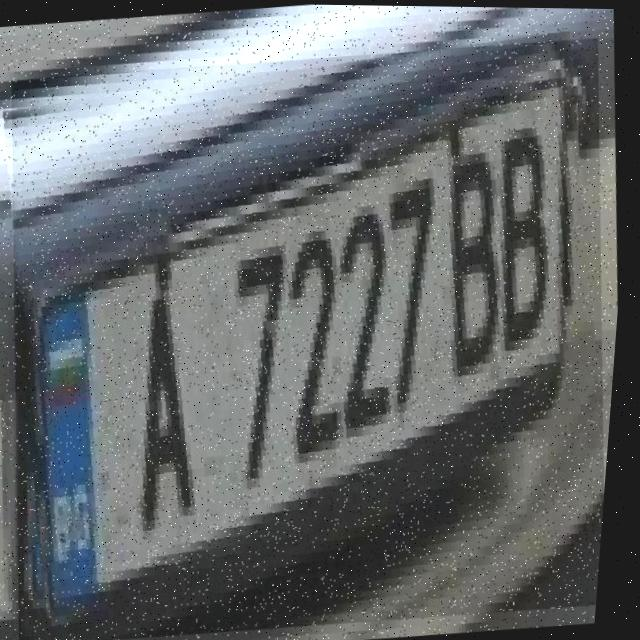LicensePlate: (0, 29, 638, 640)
